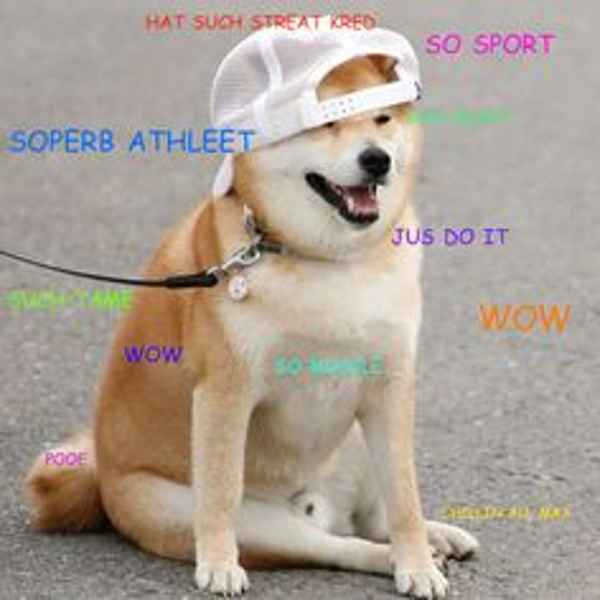doge: (222, 38, 422, 259)
